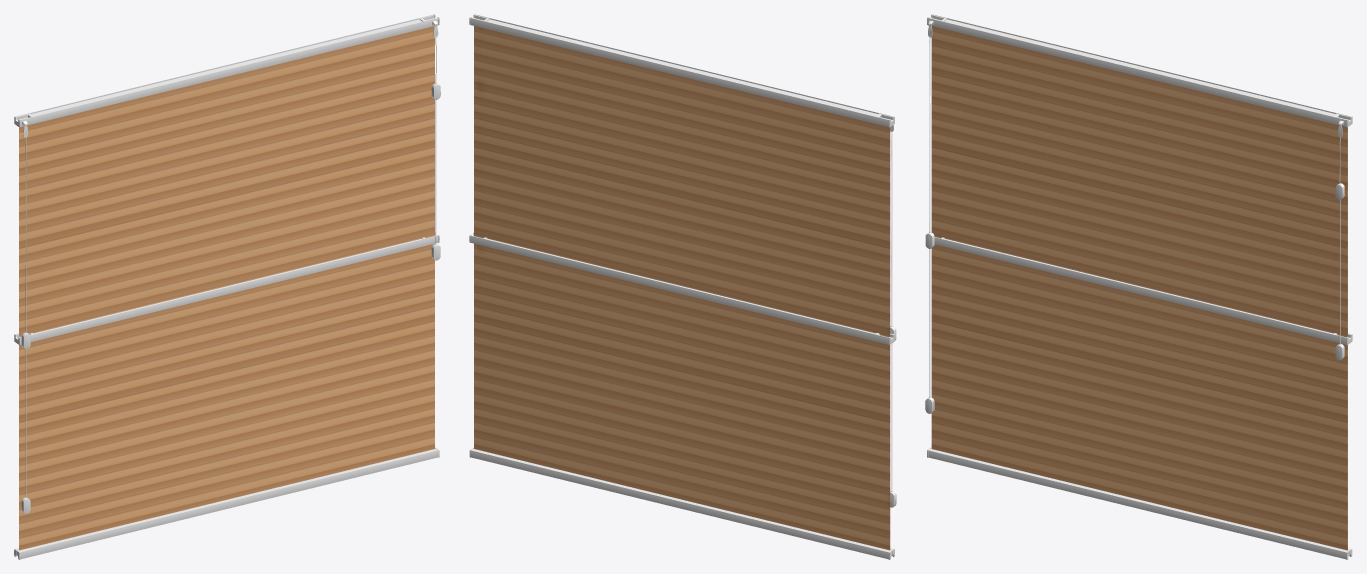
3 views of the same model, side by side, from view 1: azimuth 30°, elevation 25°; view 2: azimuth 150°, elevation 25°; view 3: azimuth 330°, elevation 25° (orthographic).
Visible parts, largest first — view 1: Plane.005, Plane.001, Cube.010, Cube.012, Cube.004, BezierCurve.006; view 2: Plane.005, Plane.001, Cube.010, Cube.012, Cube.004, BezierCurve.006; view 3: Plane.005, Plane.001, Cube.010, Cube.012, Cube.004, BezierCurve.006.
Part boxes in pixels (left/top/right/bottom): Plane.005: left=19, top=26, right=434, bottom=337; Plane.001: left=19, top=243, right=434, bottom=550; Cube.010: left=16, top=14, right=438, bottom=126; Cube.012: left=16, top=448, right=438, bottom=559; Cube.004: left=16, top=236, right=438, bottom=344; BezierCurve.006: left=25, top=136, right=26, bottom=497; Plane.005: left=474, top=26, right=890, bottom=337; Plane.001: left=474, top=243, right=890, bottom=550; Cube.010: left=470, top=14, right=892, bottom=126; Cube.012: left=471, top=448, right=893, bottom=559; Cube.004: left=470, top=235, right=892, bottom=344; BezierCurve.006: left=891, top=131, right=892, bottom=491; Plane.005: left=931, top=26, right=1347, bottom=337; Plane.001: left=931, top=244, right=1347, bottom=550; Cube.010: left=928, top=14, right=1350, bottom=126; Cube.012: left=928, top=448, right=1350, bottom=559; Cube.004: left=934, top=237, right=1350, bottom=344; BezierCurve.006: left=929, top=36, right=930, bottom=397.
Size of the model in its own units: 0.9998 by 0.9992 by 0.0337.
4 materials, 2 textured.
